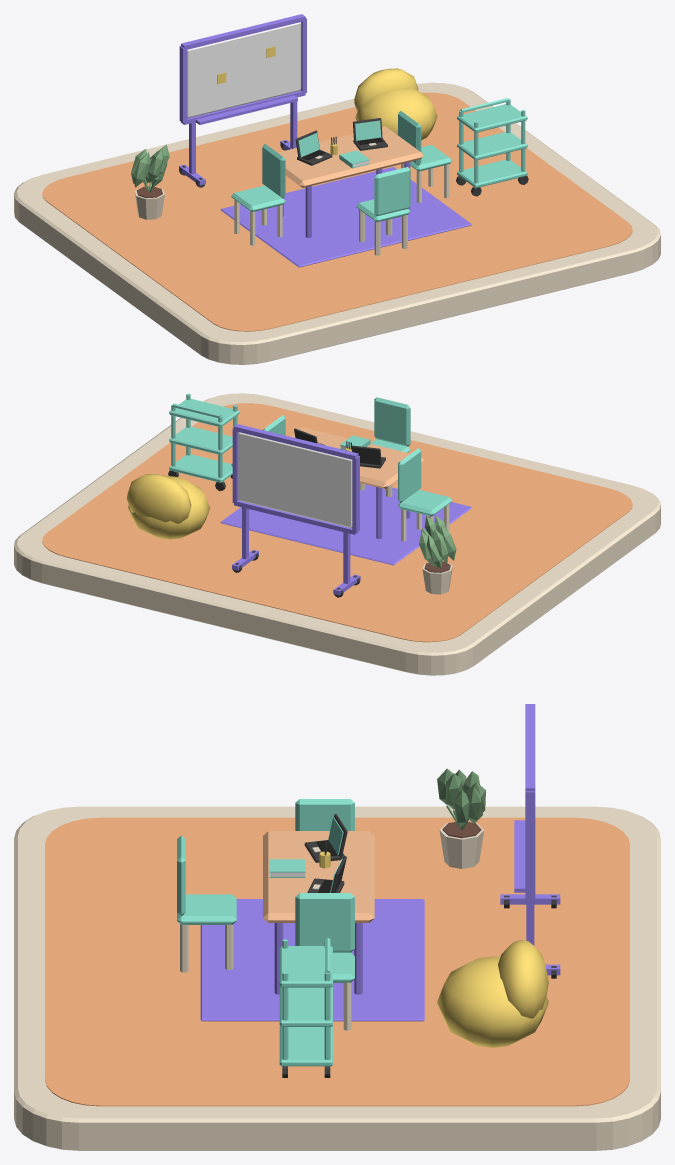
Rendered from room.fbx.
3 views of the same model, one above another, from view 1: azimuth 30°, elevation 25°; view 2: azimuth 150°, elevation 25°; view 3: azimuth 270°, elevation 25° (orthographic). The views are drawn at different scales.
Parts seen in each view (by area): view 1: COM-02 Floor Surface, COM-01 Rounded Base Direct, Rug, Writing surface, Rounded table top, Beanbag shell, Pot, Backrest.002, Back bolster, Tray.002, Tray.001, Tray (+8 smaller); view 2: COM-02 Floor Surface, COM-01 Rounded Base Direct, Writing surface, Rug, Back bolster, Pot, Beanbag shell, Rounded table top, Backrest.002, Tray, Tray.001, Tray.002 (+7 smaller); view 3: COM-02 Floor Surface, COM-01 Rounded Base Direct, Rug, Rounded table top, Beanbag shell, Pot, Backrest.001, Back bolster, Tray.002, Tray, Tray.001, Backrest (+6 smaller).
Boxes of the visible parts, x1,y1,x2,y2 form: COM-02 Floor Surface: (42, 92, 632, 331); COM-01 Rounded Base Direct: (14, 82, 660, 364); Rug: (220, 167, 471, 267); Writing surface: (187, 22, 301, 118); Rounded table top: (277, 126, 423, 187); Beanbag shell: (355, 87, 437, 140); Pot: (131, 144, 169, 219); Backrest.002: (374, 167, 410, 216); Back bolster: (354, 68, 418, 111); Tray.002: (457, 104, 527, 132); Tray.001: (457, 132, 527, 160); Tray: (457, 159, 527, 188); COM-02 Floor Surface: (42, 403, 632, 642); COM-01 Rounded Base Direct: (14, 393, 660, 675); Writing surface: (238, 432, 352, 527); Rug: (220, 484, 471, 565); Back bolster: (126, 474, 191, 523); Pot: (419, 515, 456, 594); Beanbag shell: (128, 476, 210, 539); Rounded table top: (290, 427, 423, 488); Backrest.002: (374, 397, 410, 446); Tray: (169, 454, 232, 482); Tray.001: (169, 426, 232, 454); Tray.002: (169, 399, 239, 427); COM-02 Floor Surface: (45, 817, 629, 1106); COM-01 Rounded Base Direct: (14, 806, 660, 1150); Rug: (200, 899, 424, 1021); Rounded table top: (263, 831, 374, 922); Beanbag shell: (437, 956, 548, 1047); Pot: (437, 768, 485, 868); Backrest.001: (295, 893, 354, 952); Back bolster: (498, 939, 548, 1018); Tray.002: (279, 946, 332, 987); Tray: (279, 1026, 332, 1066); Tray.001: (279, 986, 332, 1026); Backrest: (295, 799, 354, 830).
Size of the model in its own units: 600 by 204 by 520.
